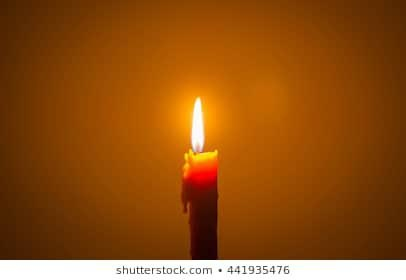fire: (186, 92, 207, 151)
